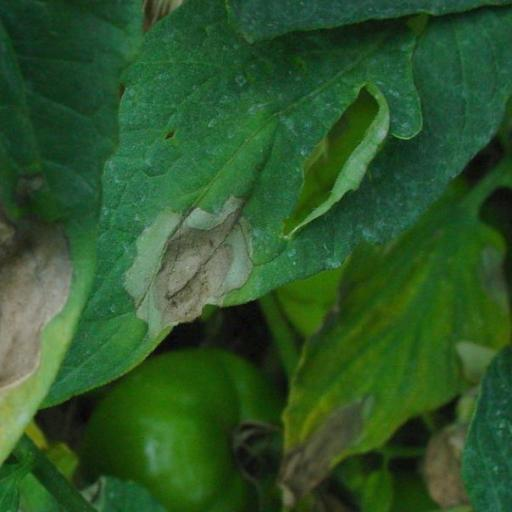disease_tomato: (35, 8, 511, 408)
